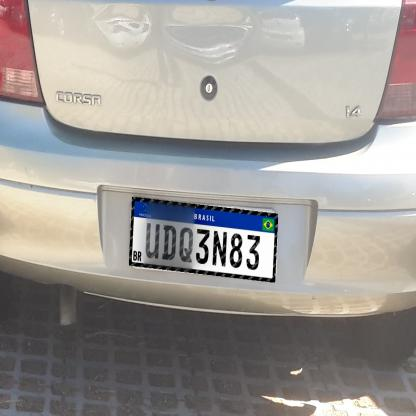PlacaM: (129, 197, 278, 282)
